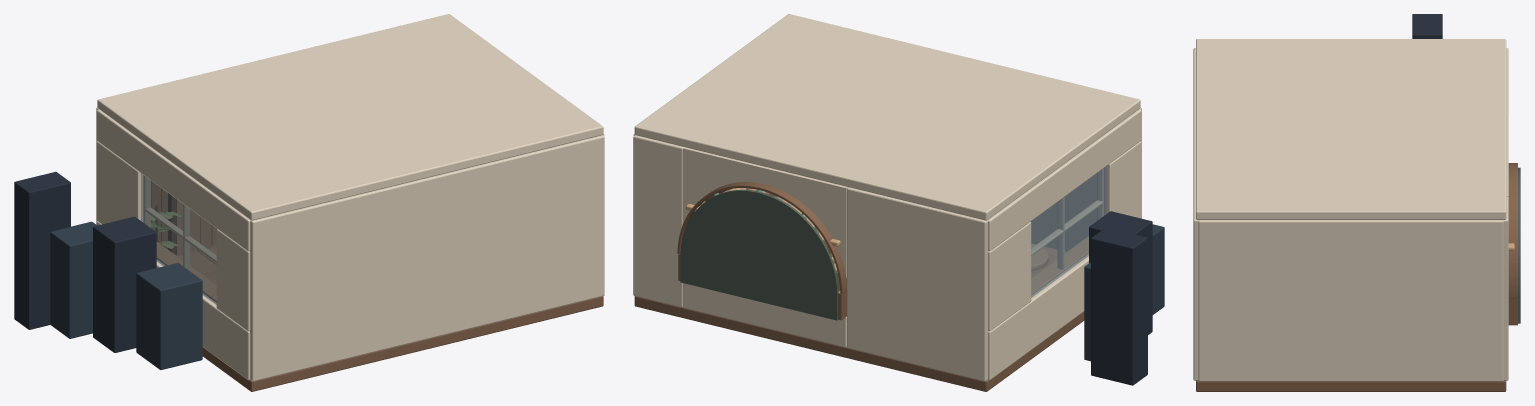
The model's file is cozy_bar_v004.glb.
3 views of the same model, side by side, from view 1: azimuth 30°, elevation 25°; view 2: azimuth 150°, elevation 25°; view 3: azimuth 270°, elevation 25° (orthographic).
Parts seen in each view (by area): view 1: Ceiling, Front wall, Night building.003, Night building.001, Night building, Left wall upper, Window glazing, Night building.002, Foundation, Left wall pier.001, Left wall pier, Left wall lower (+3 smaller); view 2: Ceiling, Back wall left, Niche back, Night building.003, Back wall right, Continuous arch wall, Window glazing, Left wall upper, Left wall lower, Foundation, Back wall below niche, Left wall pier.001 (+9 smaller); view 3: Ceiling, Right wall, Foundation, Front wall, Niche arched ceiling, Back wall right, Night building.003, Niche back.
Part boxes in pixels (<box>): Ceiling: <box>97,14,603,220</box>; Front wall: <box>250,135,604,381</box>; Night building.003: <box>14,171,70,329</box>; Night building.001: <box>93,216,156,352</box>; Night building: <box>136,263,202,369</box>; Left wall upper: <box>96,109,250,251</box>; Window glazing: <box>141,173,216,304</box>; Night building.002: <box>50,221,96,338</box>; Foundation: <box>202,296,603,391</box>; Left wall pier.001: <box>96,141,143,224</box>; Left wall pier: <box>216,229,250,331</box>; Left wall lower: <box>96,221,250,380</box>; Ceiling: <box>634,14,1140,220</box>; Back wall left: <box>847,187,988,381</box>; Niche back: <box>680,189,838,320</box>; Night building.003: <box>1091,227,1147,385</box>; Back wall right: <box>633,135,684,307</box>; Continuous arch wall: <box>682,147,848,277</box>; Window glazing: <box>1031,166,1106,297</box>; Left wall upper: <box>987,109,1141,251</box>; Left wall lower: <box>988,254,1088,380</box>; Foundation: <box>634,296,1084,391</box>; Back wall below niche: <box>683,283,846,347</box>; Left wall pier.001: <box>988,222,1031,331</box>; Ceiling: <box>1196,39,1506,219</box>; Right wall: <box>1198,220,1503,381</box>; Foundation: <box>1196,380,1506,391</box>; Front wall: <box>1193,48,1198,380</box>; Niche arched ceiling: <box>1508,163,1517,298</box>; Back wall right: <box>1503,196,1508,380</box>; Night building.003: <box>1412,14,1442,38</box>; Niche back: <box>1518,167,1520,323</box>.
Size of the model in its own units: 11.05 by 4.06 by 6.64.
